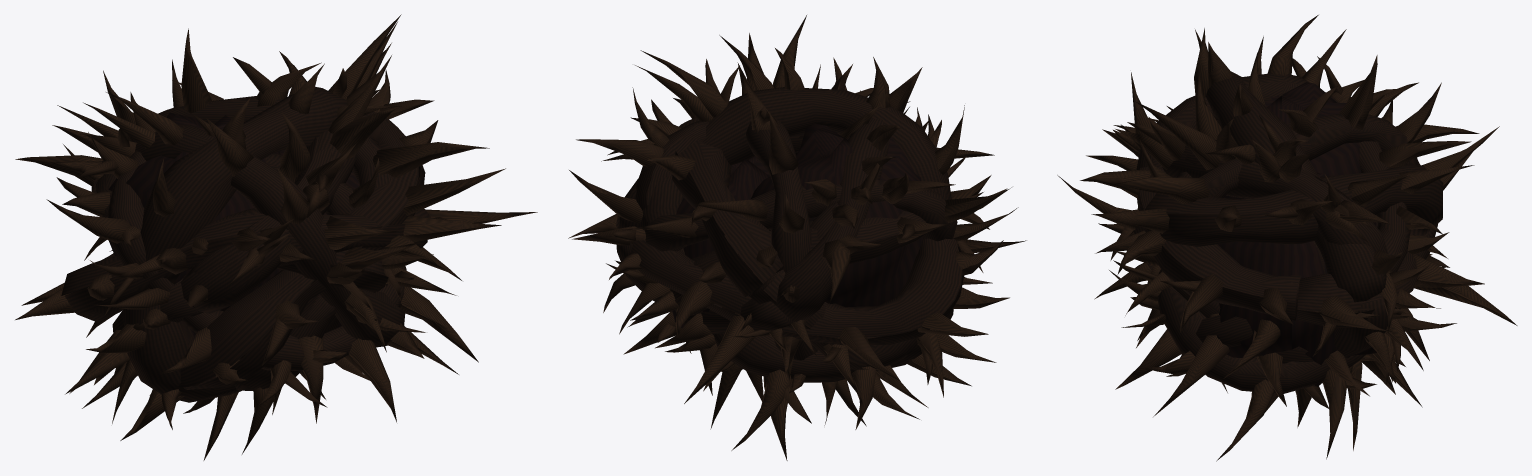
File: Thorn_B_GnarledKnot_Detail1.fbx
3 renders of one model, left to right at view 1: azimuth 30°, elevation 25°; view 2: azimuth 150°, elevation 25°; view 3: azimuth 270°, elevation 25°, orthographic. The views are drawn at different scales.
Parts seen in each view (by area): view 1: ThornSurface; view 2: ThornSurface; view 3: ThornSurface.
Boxes of the visible parts, box(x1,y1,x2,y2) form: ThornSurface: box(15, 14, 537, 460); ThornSurface: box(568, 15, 1026, 460); ThornSurface: box(1057, 15, 1517, 461).
Bounding box in the file's own units: 297 × 236 × 270.
